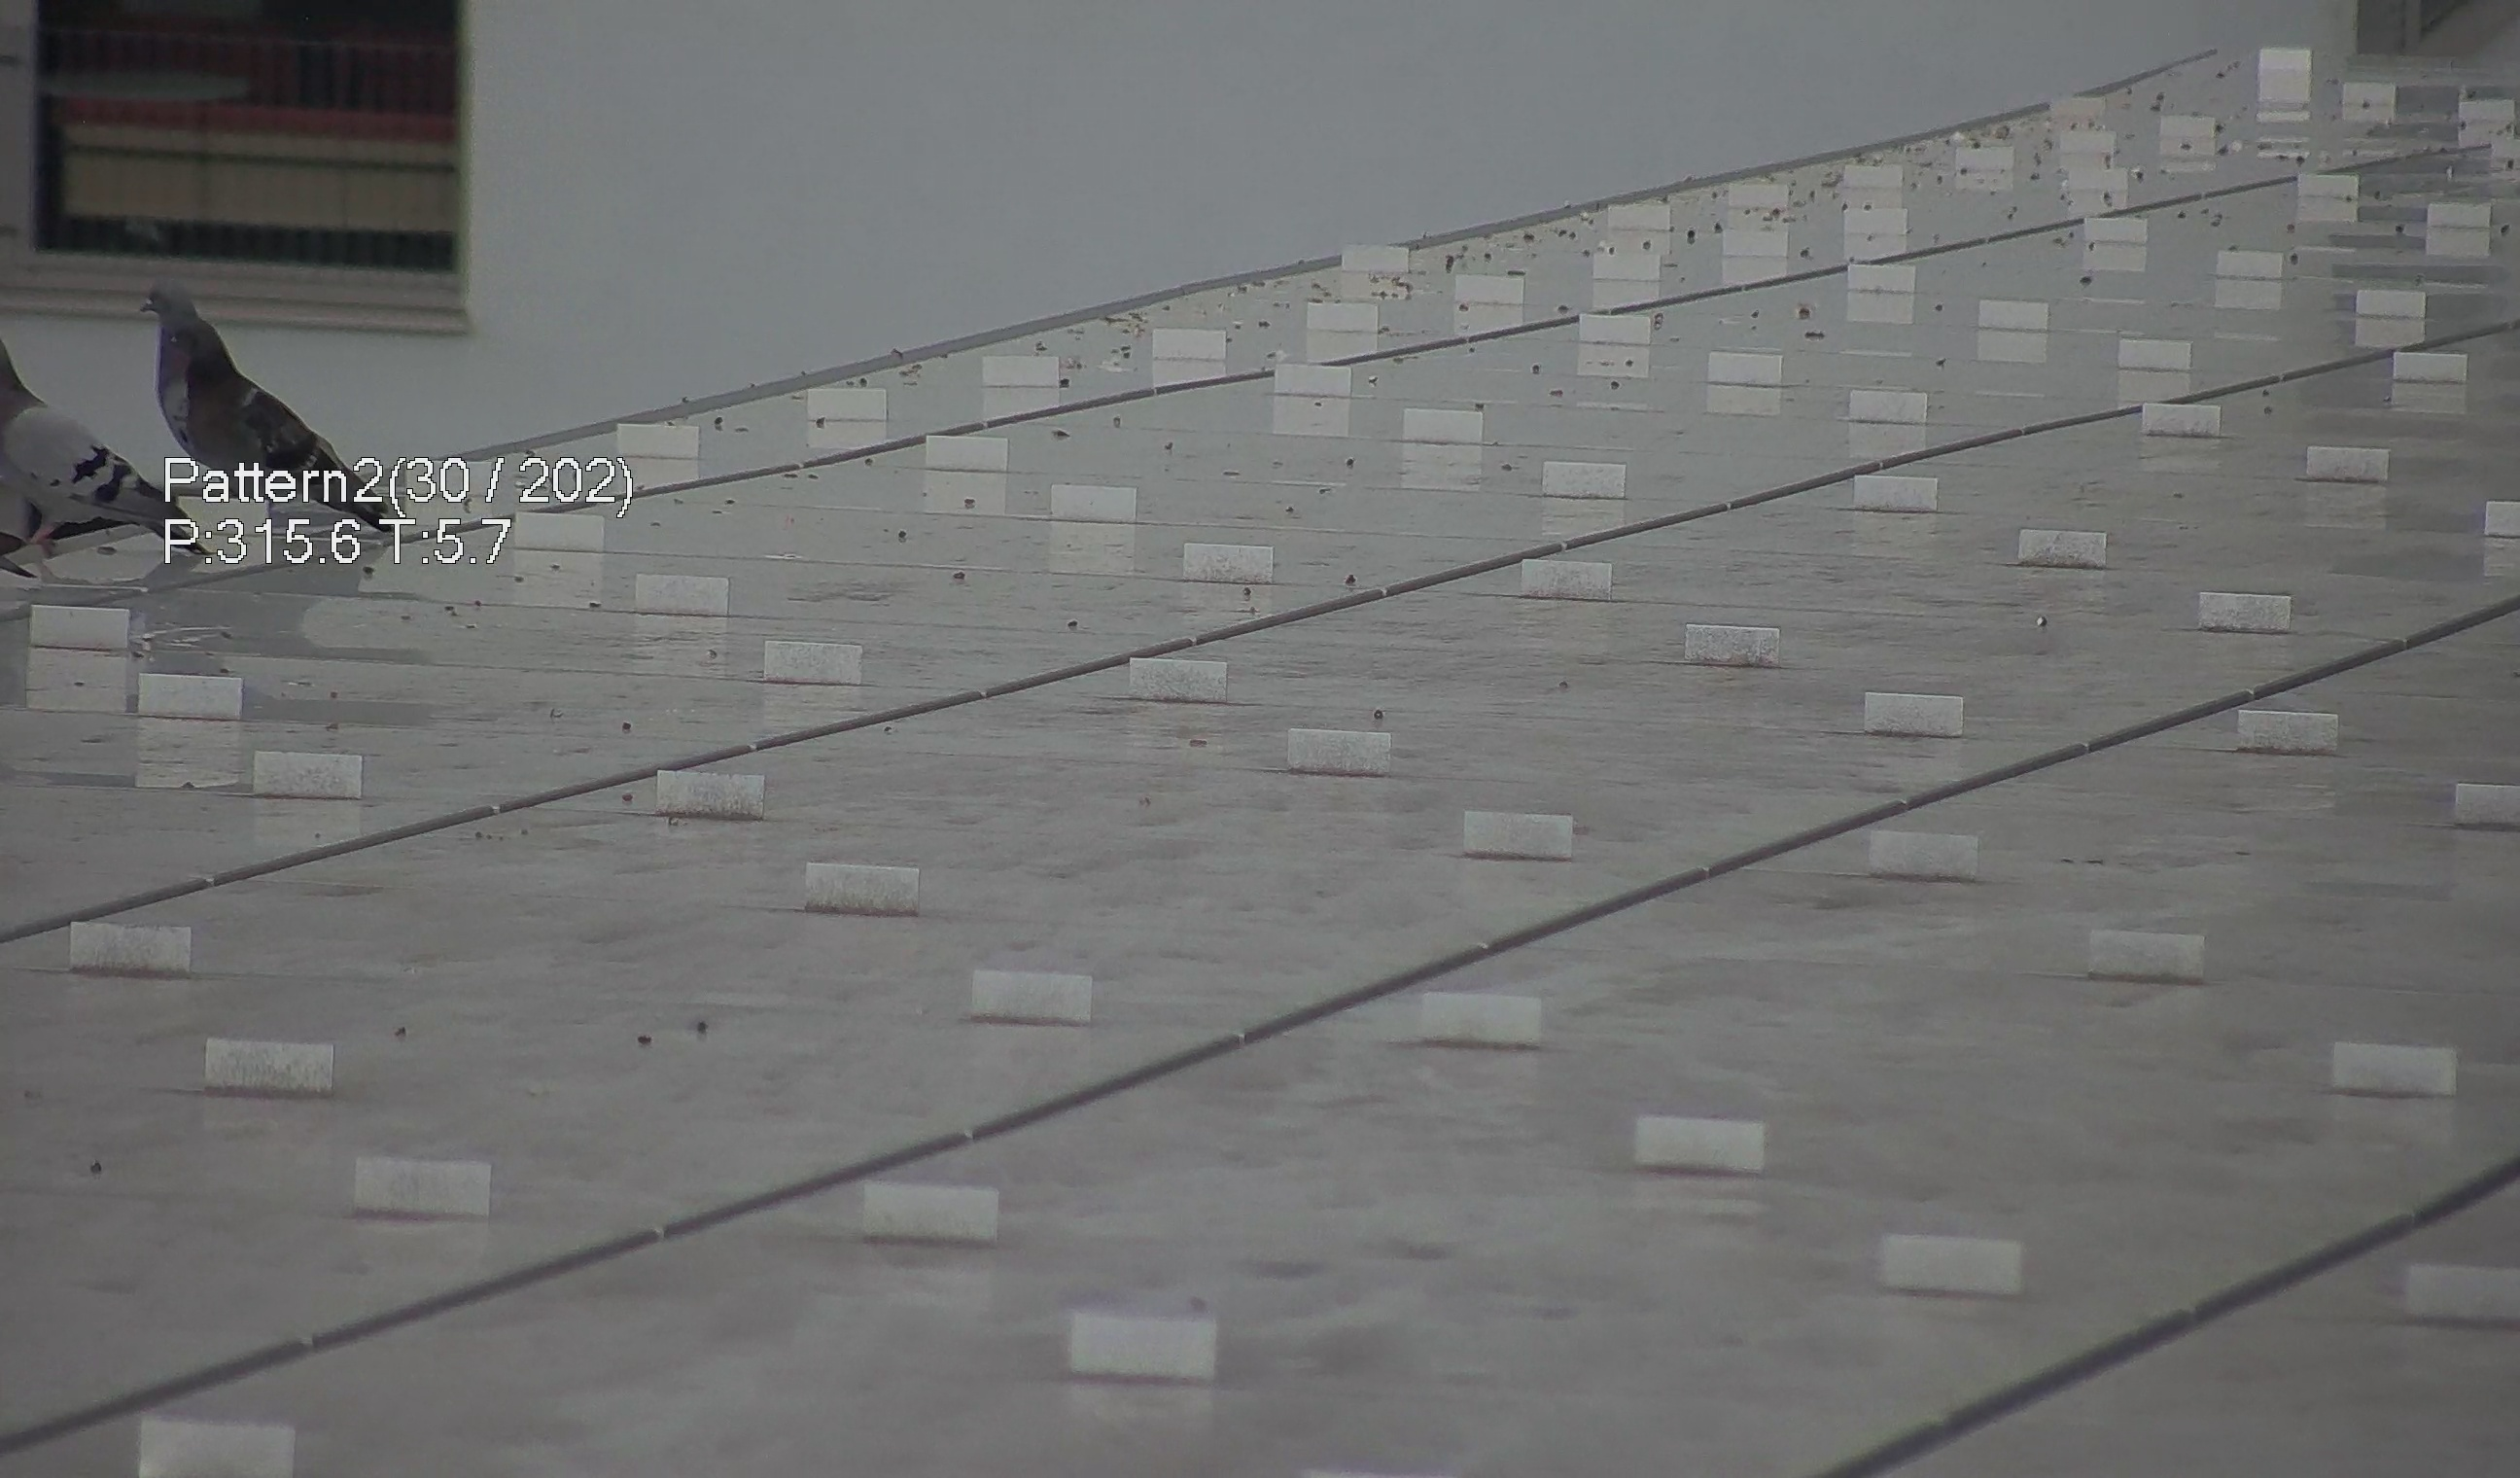Pigeon: (123, 274, 362, 501), (2, 334, 183, 567)
